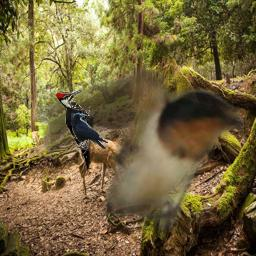Crow: (71, 112, 108, 150)
Swallow: (37, 66, 244, 232)
Woodpecker: (55, 89, 95, 175)
